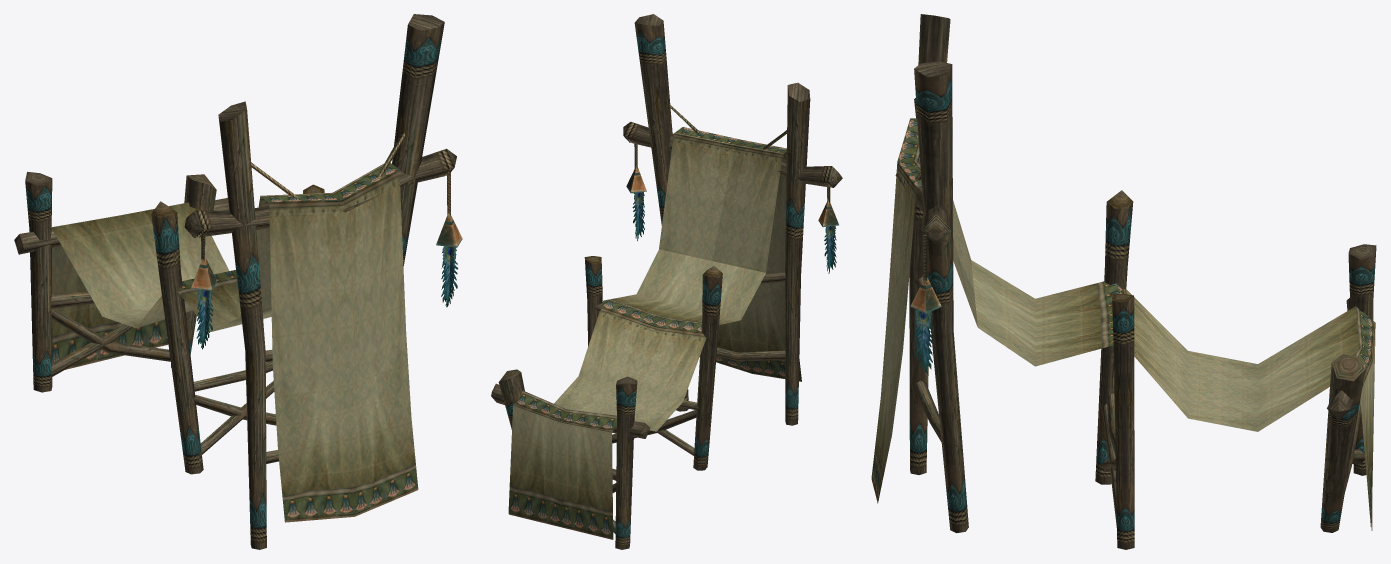
The model's file is zhangpeng_dw_42.FBX.
3 views of the same model, side by side, from view 1: azimuth 30°, elevation 25°; view 2: azimuth 150°, elevation 25°; view 3: azimuth 270°, elevation 25° (orthographic). The views are drawn at different scales.
Visible parts, largest first — view 1: zhangpeng_dw_42; view 2: zhangpeng_dw_42; view 3: zhangpeng_dw_42.
Part boxes in pixels (<box>): zhangpeng_dw_42: <box>14,14,462,549</box>; zhangpeng_dw_42: <box>491,14,842,549</box>; zhangpeng_dw_42: <box>871,14,1376,549</box>.
Size of what is drawn, in the model's own units: 827 by 1363 by 1264.
